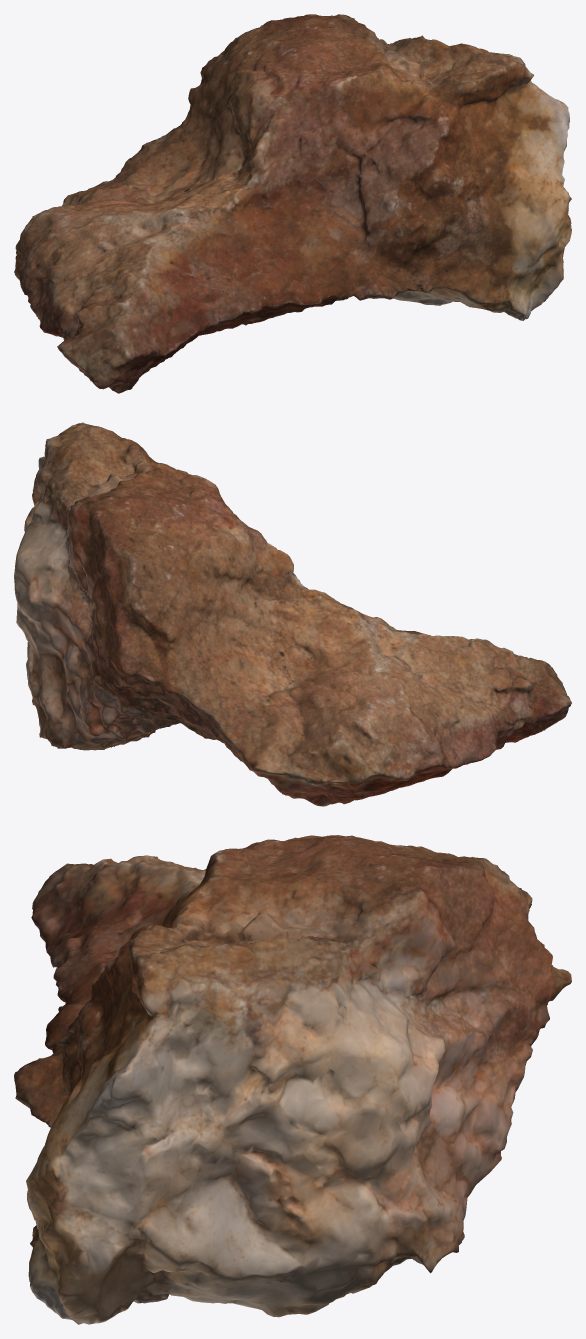
Rendered from stone_01.gltf.
3 renders of one model, top to bottom at view 1: azimuth 30°, elevation 25°; view 2: azimuth 150°, elevation 25°; view 3: azimuth 270°, elevation 25°, orthographic. The views are drawn at different scales.
Visible parts, largest first — view 1: stone_01; view 2: stone_01; view 3: stone_01.
Part boxes in pixels (x1=…): stone_01: x1=14, y1=14, x2=571, y2=393; stone_01: x1=14, y1=422, x2=571, y2=806; stone_01: x1=14, y1=835, x2=571, y2=1324.
Bounding box in the file's own units: 0.1469 × 0.0718 × 0.0891.
Materials: 1 (1 with a texture image).
